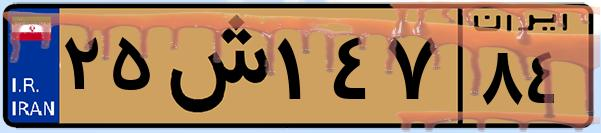1: (270, 28, 330, 110)
2: (57, 26, 110, 100)
4: (330, 28, 385, 110), (525, 38, 570, 115)
5: (110, 28, 158, 98)
7: (385, 28, 445, 110)
8: (475, 38, 525, 113)
ش: (158, 12, 270, 120)
